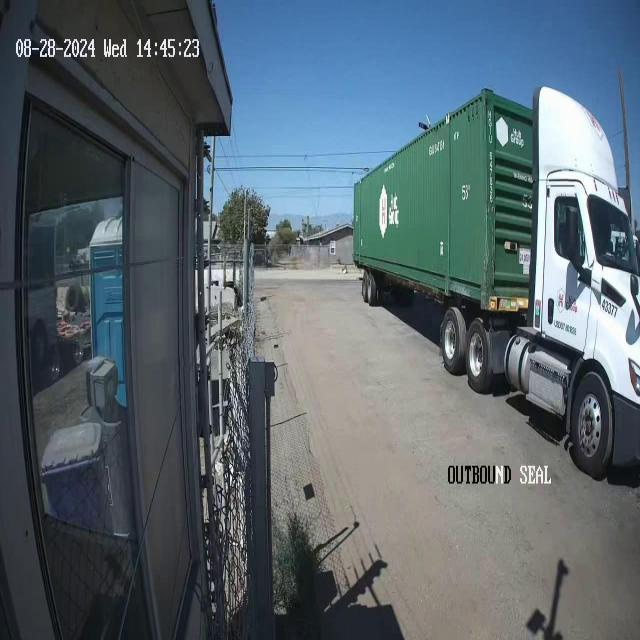TRUCK_IN: (351, 76, 639, 481)
